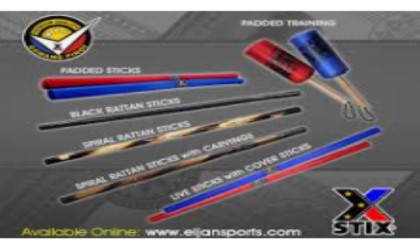baston_v: (54, 192, 80, 209), (37, 152, 62, 169), (38, 74, 51, 90), (43, 87, 57, 100), (298, 123, 311, 136), (292, 103, 306, 115), (371, 124, 384, 136), (162, 202, 175, 214), (145, 212, 157, 224), (361, 138, 372, 150), (235, 76, 245, 86), (293, 87, 303, 96), (35, 123, 44, 132), (233, 70, 242, 78)
